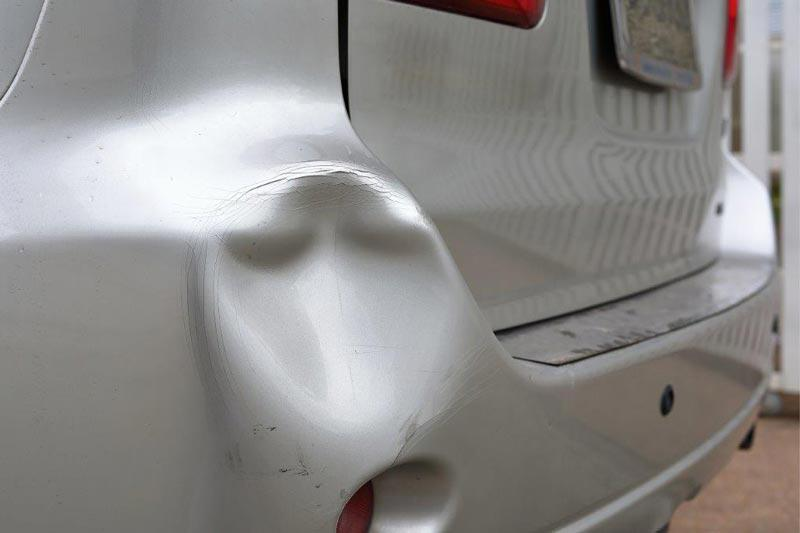rear-bumper-dent: (0, 144, 799, 532)
